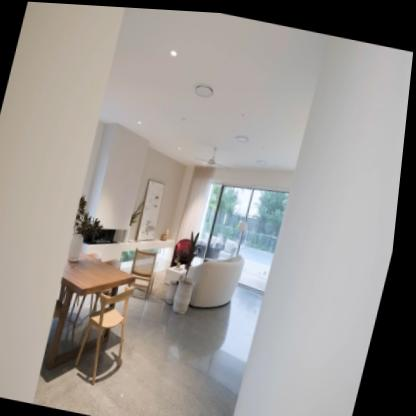Chair: (78, 275, 144, 387), (129, 247, 165, 299)
Curtains: (170, 156, 223, 270)
Sofa: (186, 241, 252, 310), (176, 235, 201, 266)
Table: (47, 252, 145, 383)
Window: (189, 169, 294, 291)
